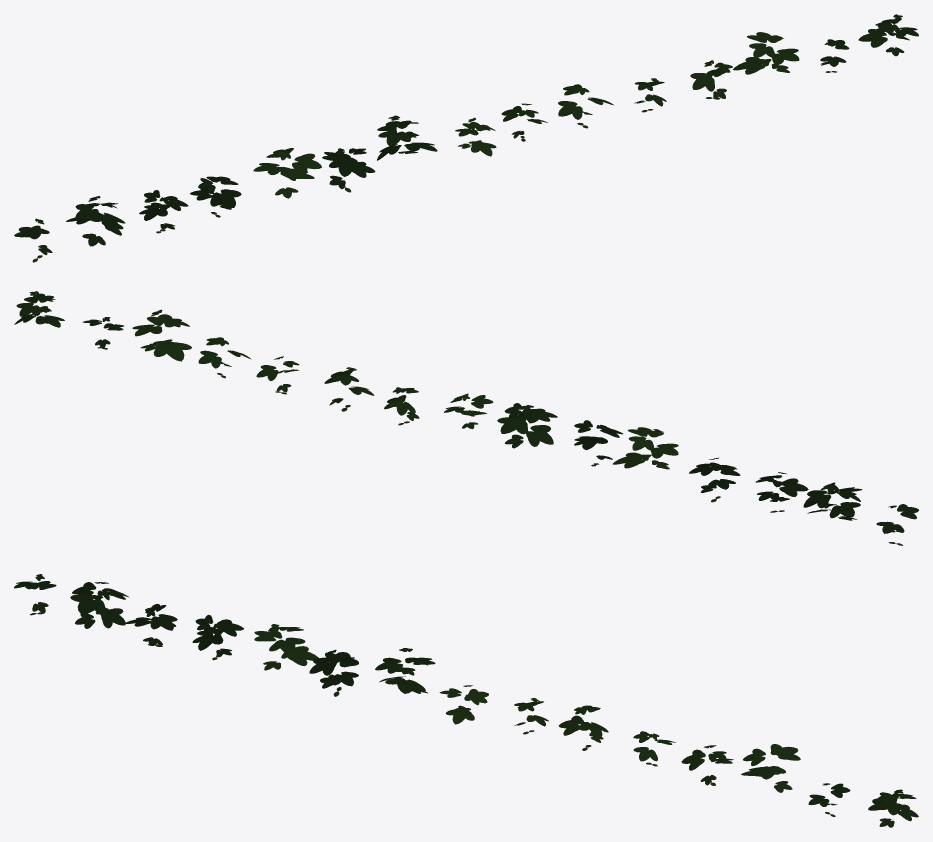
The model's file is ROW_22_SEG0_foliage.dae.
The picture shows the model from 3 angles, top to bottom: view 1: azimuth 30°, elevation 25°; view 2: azimuth 150°, elevation 25°; view 3: azimuth 330°, elevation 25°; orthographic projection.
Visible parts, largest first — view 1: ROW_22_SEG0_foliage; view 2: ROW_22_SEG0_foliage; view 3: ROW_22_SEG0_foliage.
Boxes of the visible parts, left/top/right/bottom form: ROW_22_SEG0_foliage: left=14, top=14, right=918, bottom=262; ROW_22_SEG0_foliage: left=14, top=291, right=918, bottom=545; ROW_22_SEG0_foliage: left=14, top=574, right=918, bottom=827.
Bounding box in the file's own units: 4.44 × 0.3374 × 0.2576.
